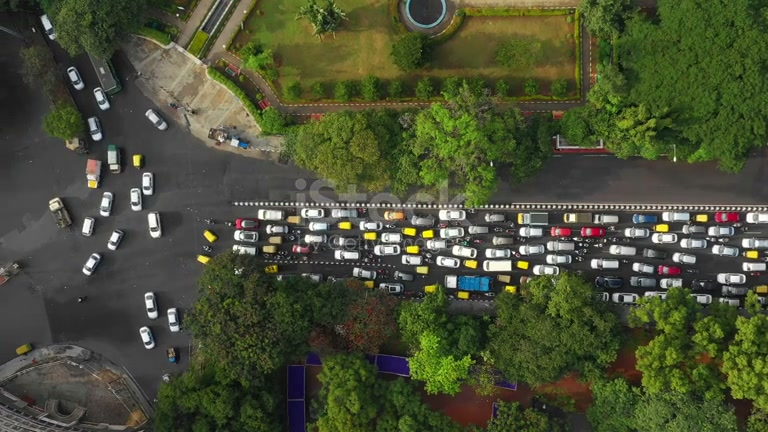car: (82, 252, 102, 276)
